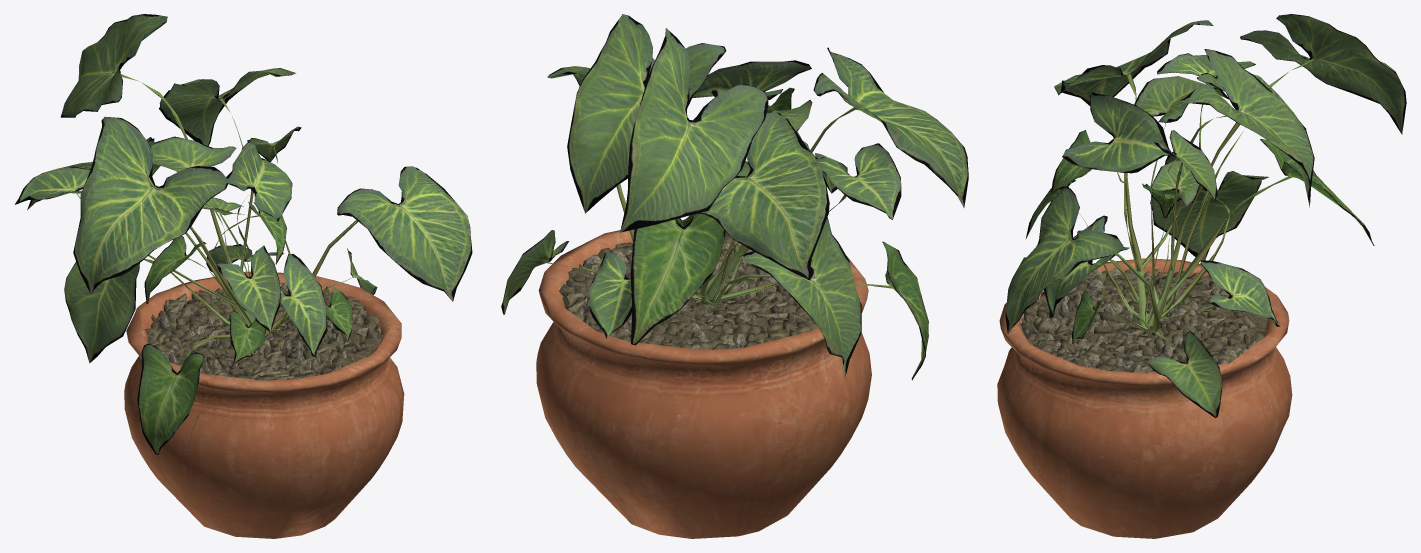
File: potted_plant_02.glb
3 views of the same model, side by side, from view 1: azimuth 30°, elevation 25°; view 2: azimuth 150°, elevation 25°; view 3: azimuth 270°, elevation 25° (orthographic). The views are drawn at different scales.
Visible parts, largest first — view 1: potted_plant_02_leaves, potted_plant_02_pot, potted_plant_02_dirt; view 2: potted_plant_02_leaves, potted_plant_02_pot, potted_plant_02_dirt; view 3: potted_plant_02_leaves, potted_plant_02_pot, potted_plant_02_dirt.
Part boxes in pixels (x1,y1,x2,y2): potted_plant_02_leaves: (15, 14, 472, 454); potted_plant_02_pot: (124, 271, 404, 538); potted_plant_02_dirt: (145, 283, 383, 380); potted_plant_02_leaves: (501, 14, 968, 380); potted_plant_02_pot: (536, 230, 871, 538); potted_plant_02_dirt: (559, 233, 817, 349); potted_plant_02_leaves: (1005, 14, 1406, 417); potted_plant_02_pot: (997, 258, 1292, 538); potted_plant_02_dirt: (1020, 268, 1267, 372).
Bounding box in the file's own units: 0.7009 × 0.8401 × 0.6561.
Materials: 2 (2 with a texture image).
